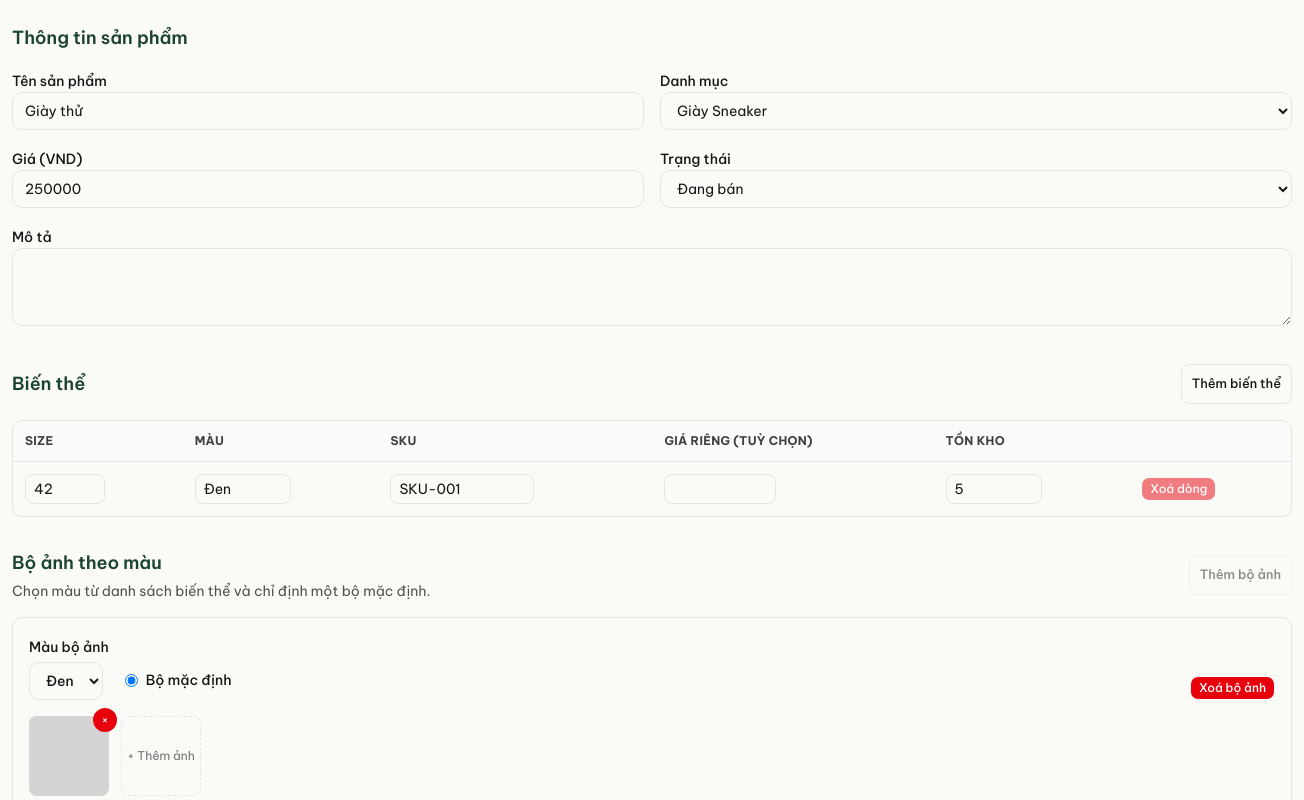
Scenario: ProductForm — biến thể inline › schedules a managed image cleanup before removing its preview
Click the button named "Xoá ảnh" at x=105, y=720, box x1=93 y1=708 x2=117 y2=732
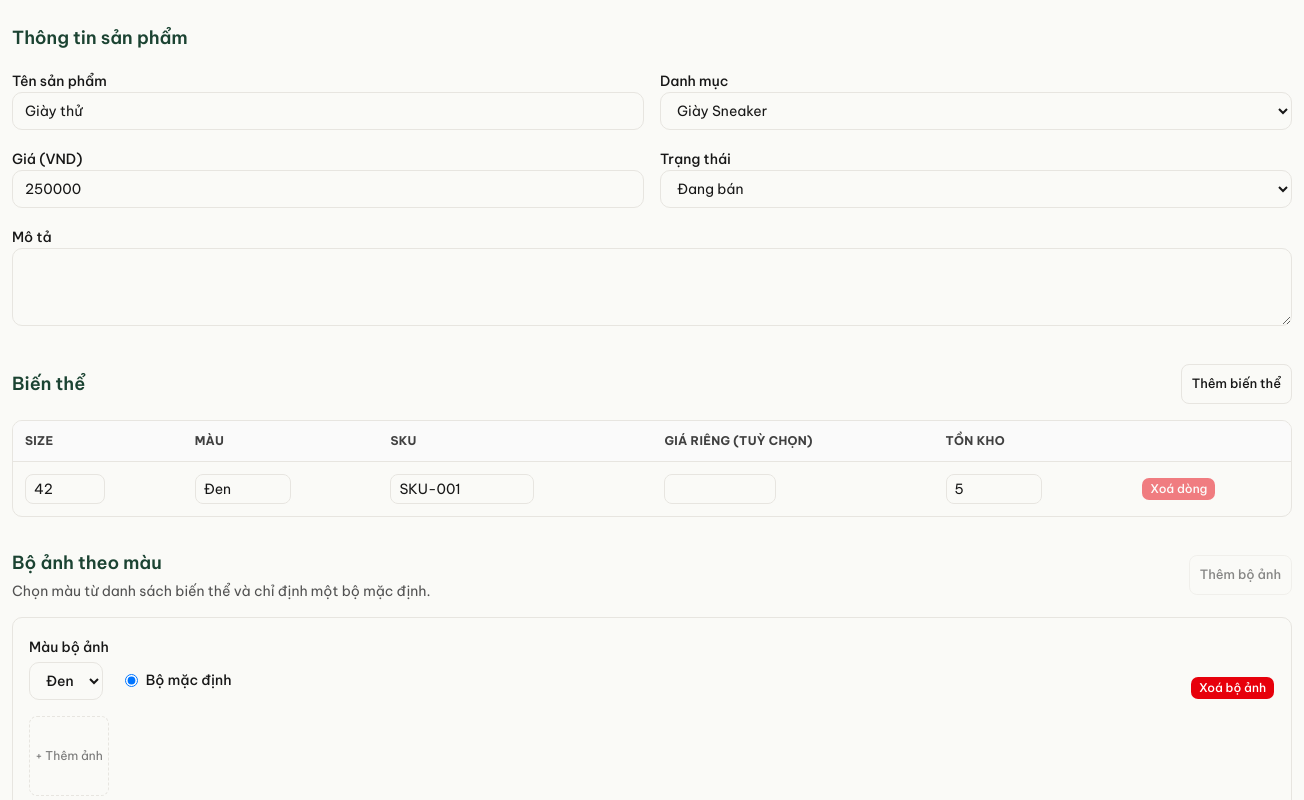
Expected: the picture is gone
